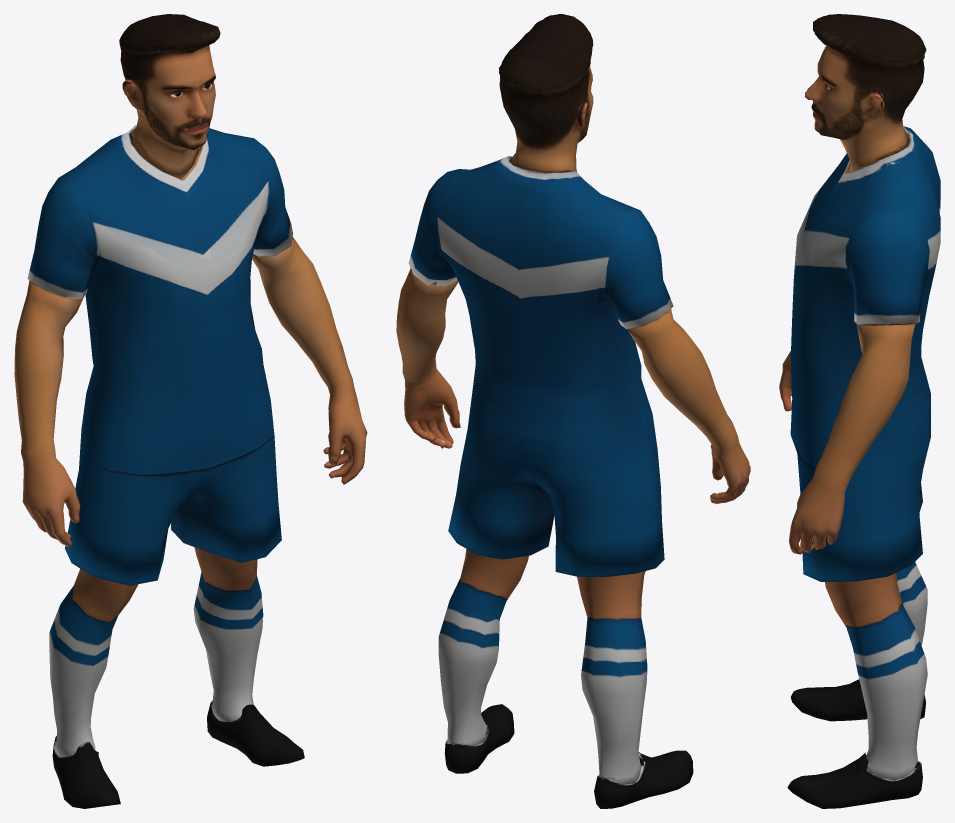
The model's file is selected.glb.
3 views of the same model, side by side, from view 1: azimuth 30°, elevation 25°; view 2: azimuth 150°, elevation 25°; view 3: azimuth 270°, elevation 25° (orthographic).
Parts seen in each view (by area): view 1: tripo_node_7dd6e8f0-d200-43cc-bfbe-f8f037b4963d; view 2: tripo_node_7dd6e8f0-d200-43cc-bfbe-f8f037b4963d; view 3: tripo_node_7dd6e8f0-d200-43cc-bfbe-f8f037b4963d.
Part boxes in pixels (bbox=[...]): tripo_node_7dd6e8f0-d200-43cc-bfbe-f8f037b4963d: bbox=[14, 14, 367, 808]; tripo_node_7dd6e8f0-d200-43cc-bfbe-f8f037b4963d: bbox=[396, 14, 750, 808]; tripo_node_7dd6e8f0-d200-43cc-bfbe-f8f037b4963d: bbox=[779, 14, 940, 808].
Size of the model in its own units: 0.4707 by 0.998 by 0.1973.
1 material, 1 textured.
